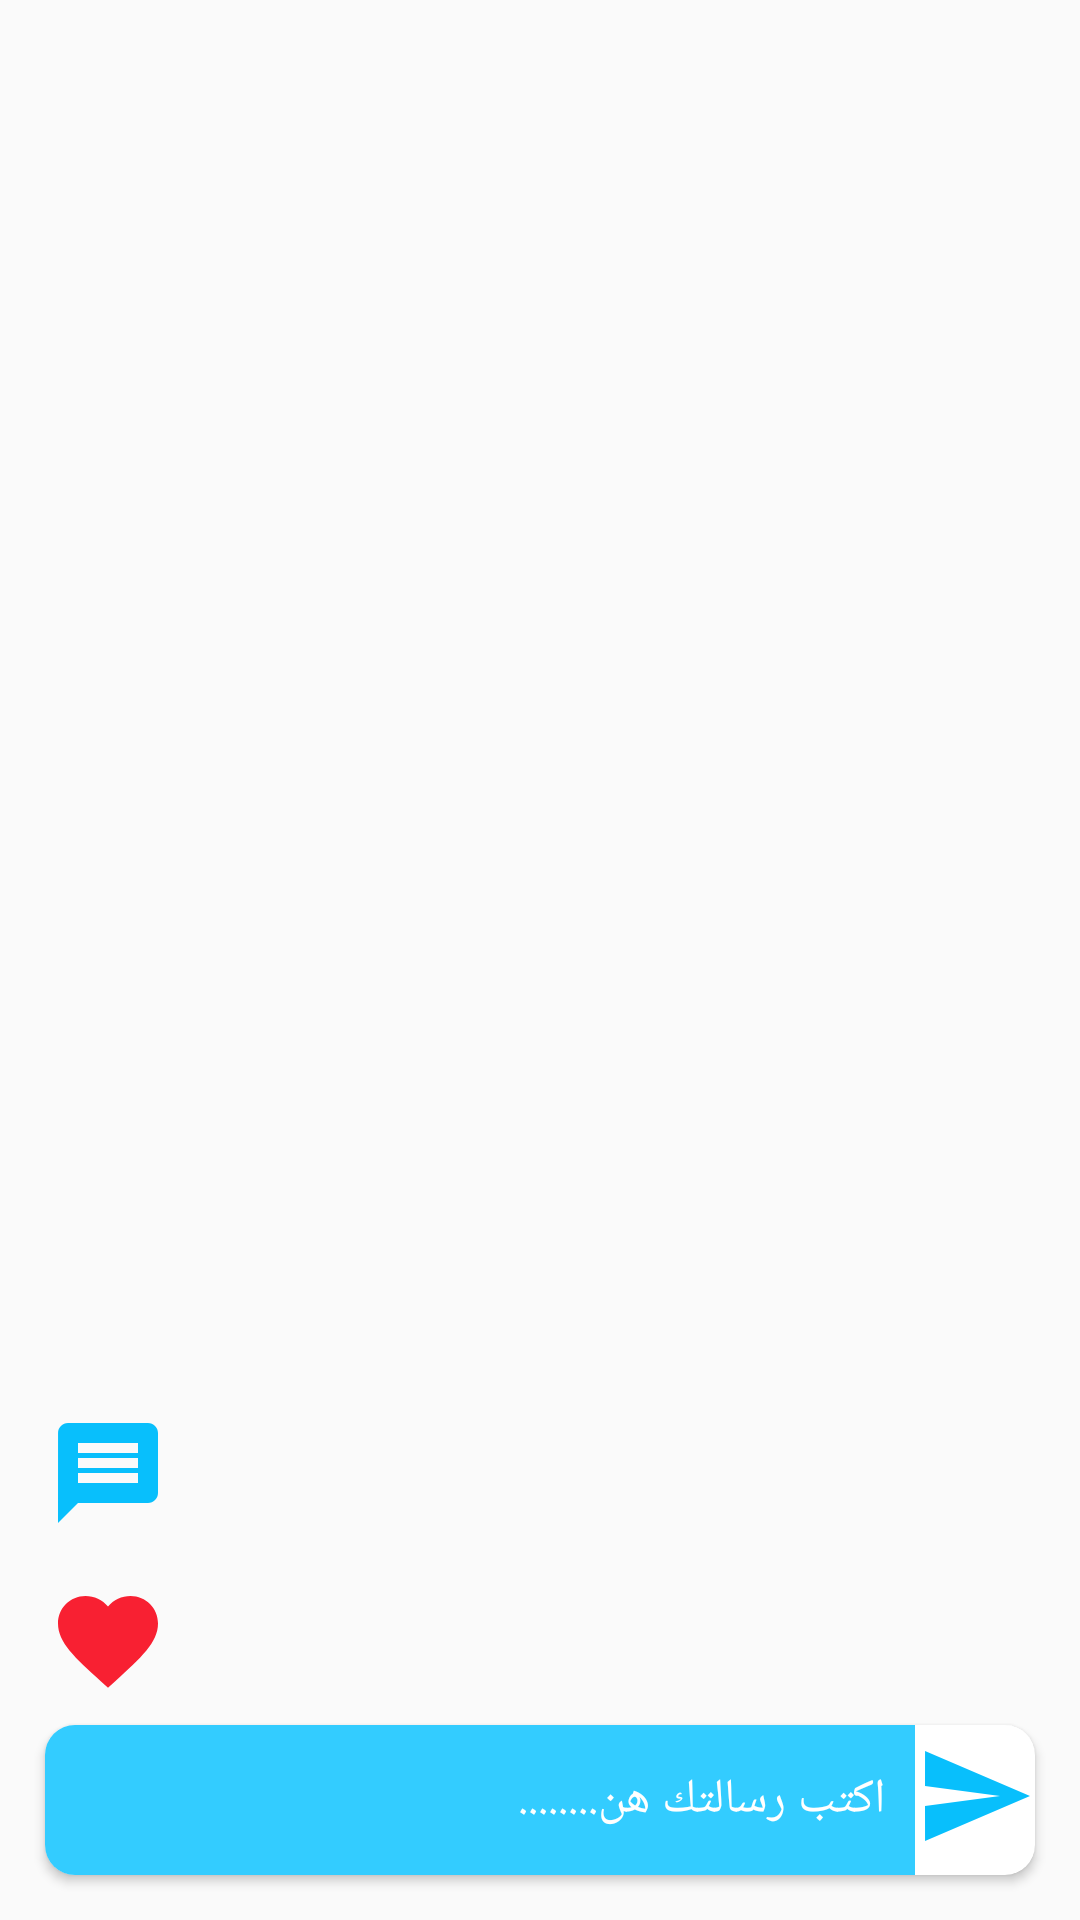

Point at icon controls on the screen. Image size 1080x1920, points as point (x, y).
favorite: point (108, 1642)
message: point (108, 1473)
send: point (980, 1792)
